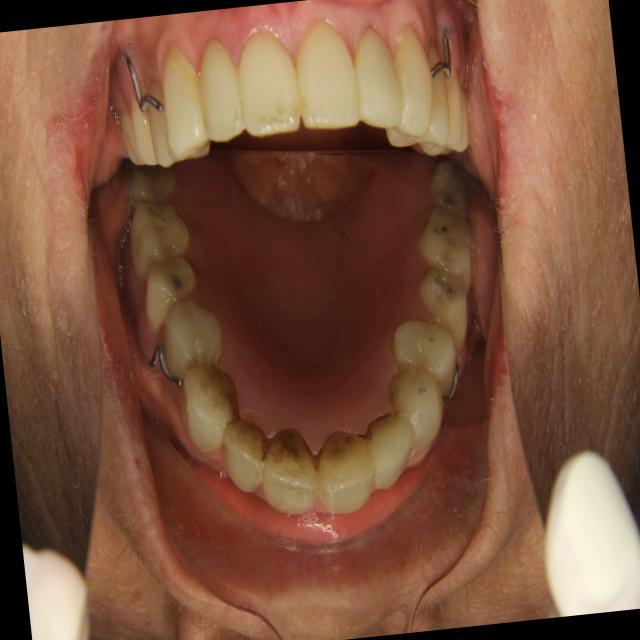tooth: (152, 282, 234, 390), (172, 353, 250, 464), (385, 303, 466, 405), (120, 189, 201, 287), (254, 415, 324, 525), (381, 352, 449, 459), (410, 195, 481, 290), (311, 417, 379, 516), (213, 404, 277, 509), (134, 251, 208, 341), (409, 251, 479, 341), (359, 403, 423, 499), (420, 147, 482, 225), (121, 148, 184, 209)
